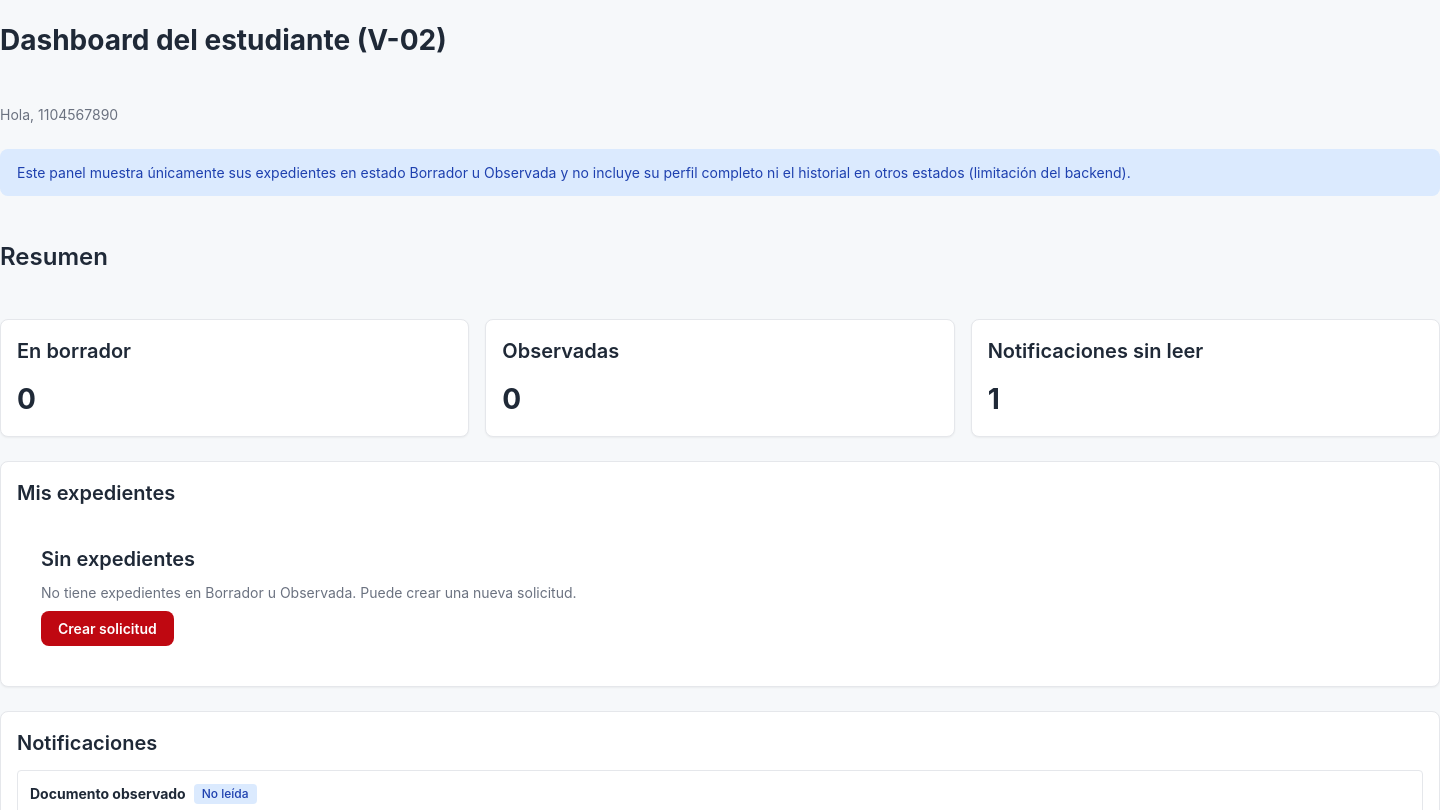
Test: StudentDashboardPage (V-02) › CA-V02-02: sin expedientes muestra un estado vacío con CTA para crear uno
Check: the heading "Sin expedientes" is shown, box [41, 544, 195, 574]
Click the button "Crear solicitud": click(107, 629) [41, 611, 174, 646]
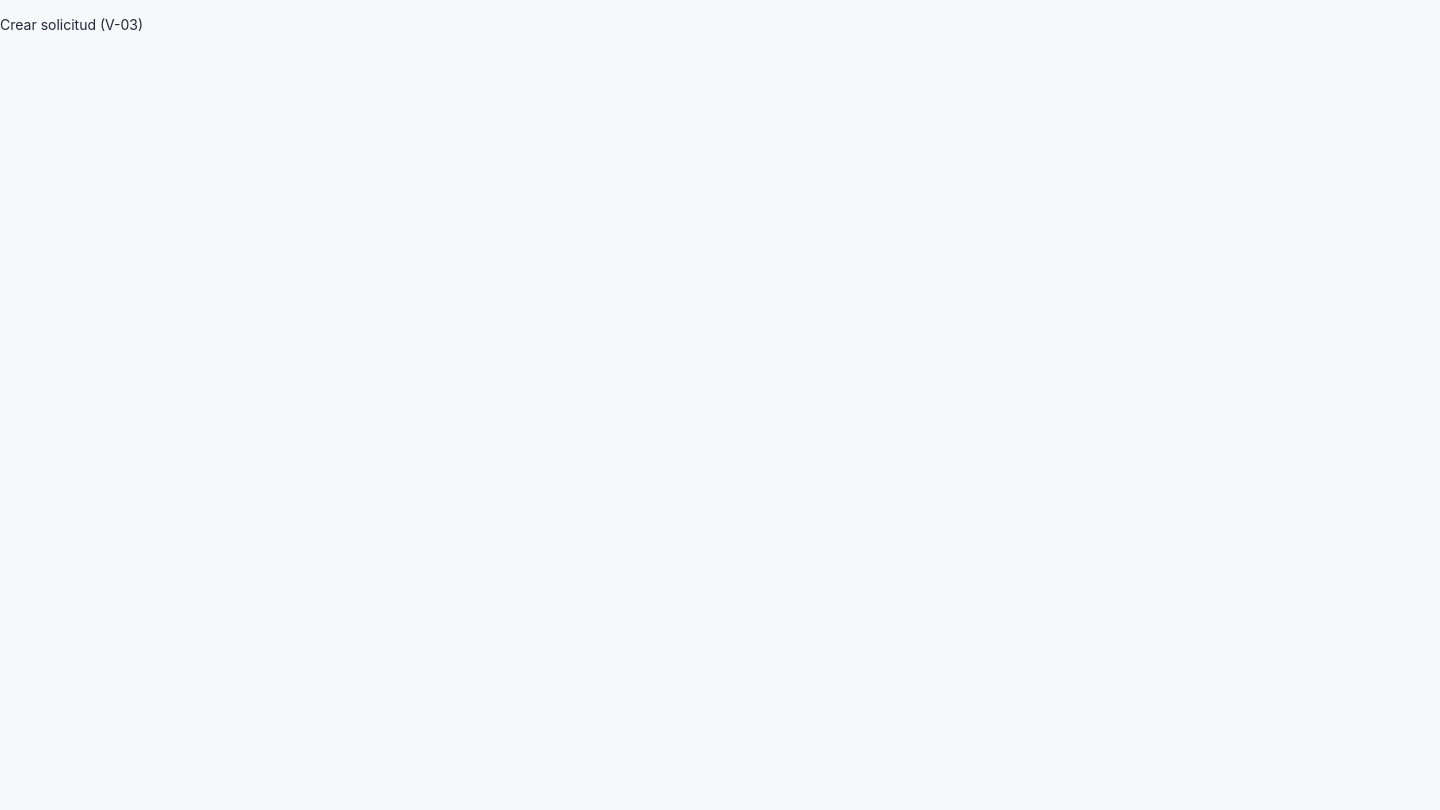
Check: the text "Crear solicitud (V-03)" is shown, box [0, 16, 143, 33]
